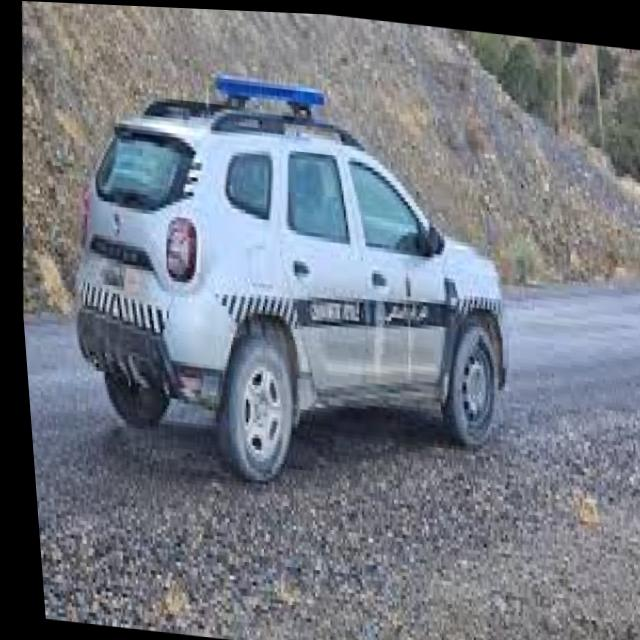gendarme car: (41, 43, 534, 512)
